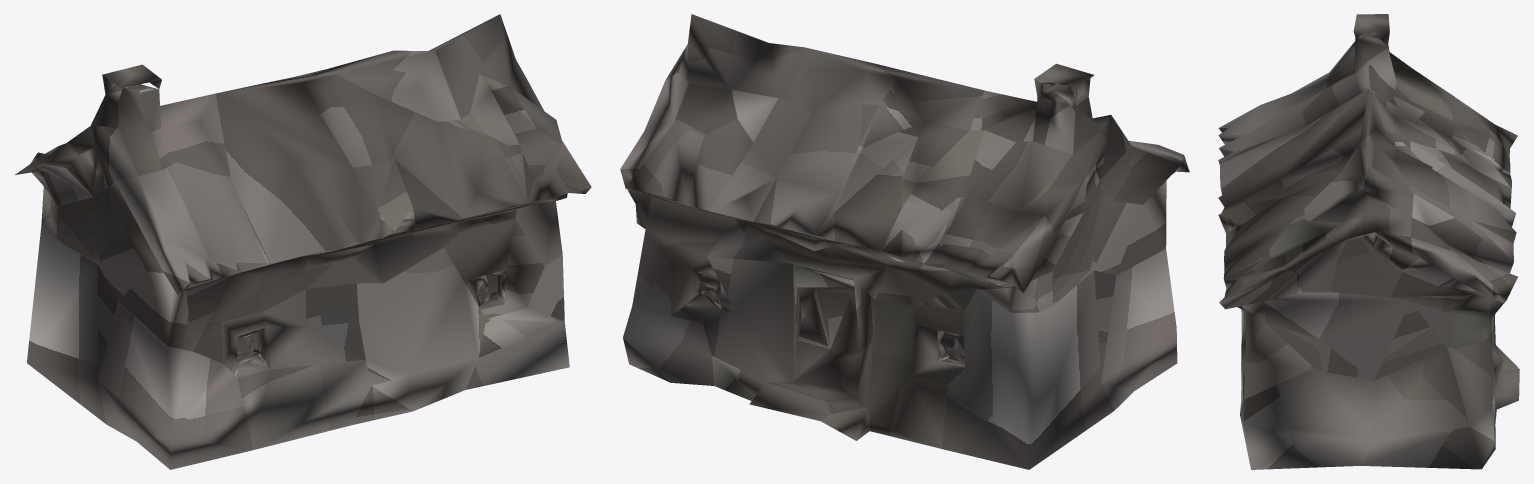
The model's file is house_generic_a_lo.glb.
3 renders of one model, left to right at view 1: azimuth 30°, elevation 25°; view 2: azimuth 150°, elevation 25°; view 3: azimuth 270°, elevation 25°, orthographic. The views are drawn at different scales.
Visible parts, largest first — view 1: tripo_node_47480820-845d-4a85-95c8-4115cd9d7e76; view 2: tripo_node_47480820-845d-4a85-95c8-4115cd9d7e76; view 3: tripo_node_47480820-845d-4a85-95c8-4115cd9d7e76.
Part boxes in pixels (x1,y1,x2,y2): tripo_node_47480820-845d-4a85-95c8-4115cd9d7e76: (15,14,591,469); tripo_node_47480820-845d-4a85-95c8-4115cd9d7e76: (620,14,1189,469); tripo_node_47480820-845d-4a85-95c8-4115cd9d7e76: (1218,14,1519,469).
Bounding box in the file's own units: 0.9593 × 0.7286 × 0.6863.
Materials: 1 (1 with a texture image).
